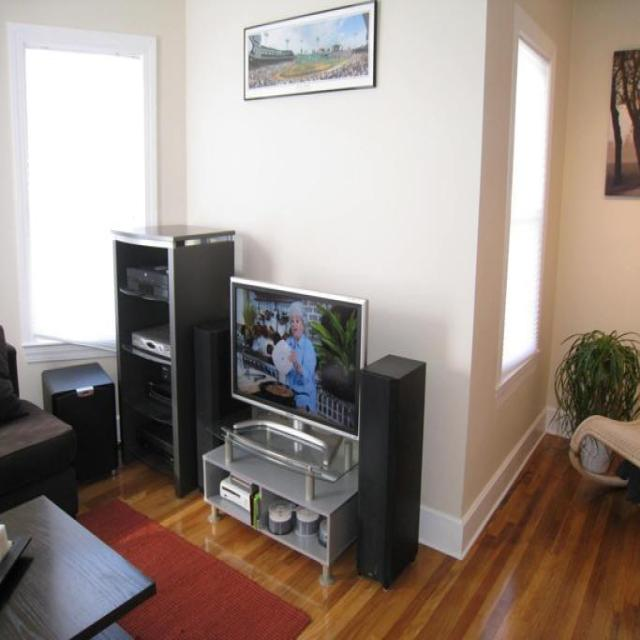cupboard: (110, 222, 235, 498)
plants: (550, 328, 639, 440)
rugs: (74, 496, 311, 639)
shelves: (200, 421, 360, 585)
sofa: (0, 324, 79, 520)
table: (0, 492, 156, 638)
television: (229, 275, 367, 453)
windows: (7, 20, 156, 355), (495, 19, 554, 395)
